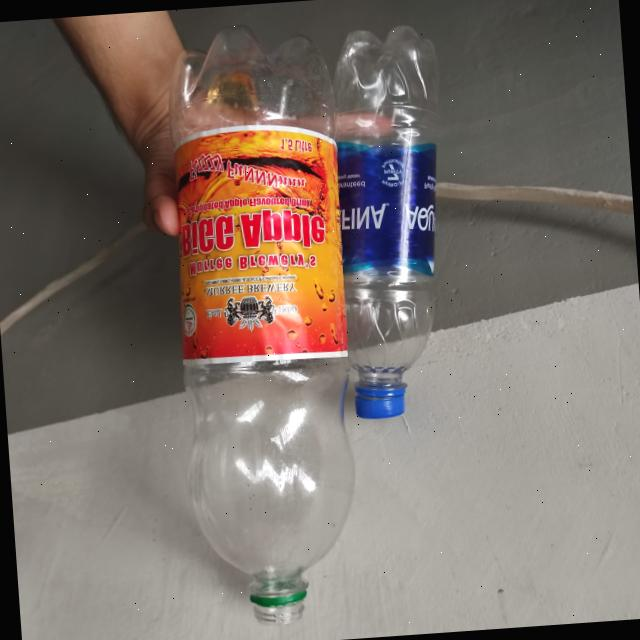bottle: (142, 38, 376, 624), (320, 19, 456, 423)
cap: (351, 378, 414, 421)
label: (161, 119, 346, 367), (336, 132, 438, 288)
